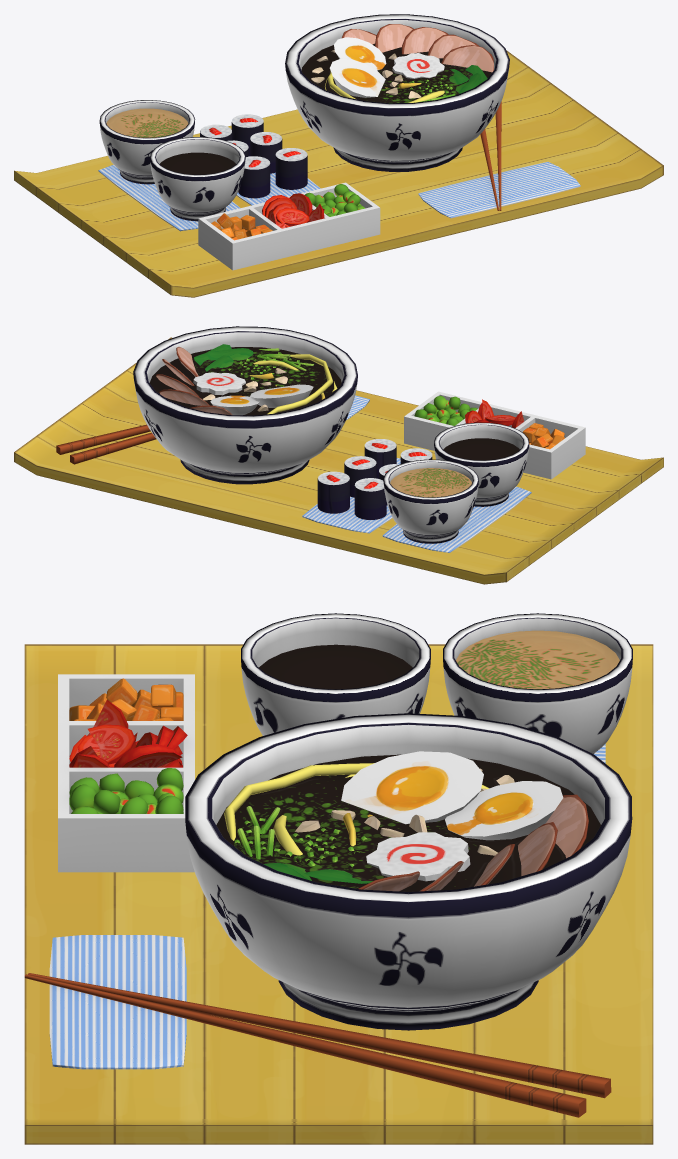
The model's file is udon_meal.fbx.
The picture shows the model from 3 angles, top to bottom: view 1: azimuth 30°, elevation 25°; view 2: azimuth 150°, elevation 25°; view 3: azimuth 270°, elevation 25°; orthographic projection. The views are drawn at different scales.
Parts seen in each view (by area): view 1: table, bowl, miniPlate, cup_01, cloth_00, sushi_00 (×4), cup_00, bowl_liquid, cup_00_liquid, cloth_02, egg_01, cup_01_liquid (+9 smaller); view 2: table, bowl, cup_00, miniPlate, bowl_liquid, cup_01, sushi_00 (×4), cloth_02, cup_00_liquid, cloth_01, cup_01_liquid, noodle (+7 smaller); view 3: table, bowl, cloth_00, miniPlate, bowl_liquid, cup_01, cup_00, egg_01, chopstick_01, chopstick_00, cup_00_liquid, cup_01_liquid (+7 smaller).
Boxes of the visible parts, bbox=[...] form: table: bbox=[14, 50, 663, 297]; bowl: bbox=[285, 14, 509, 171]; miniPlate: bbox=[198, 182, 380, 270]; cup_01: bbox=[150, 137, 245, 221]; cloth_00: bbox=[418, 162, 580, 218]; sushi_00 (×4): bbox=[231, 114, 307, 198]; cup_00: bbox=[99, 100, 195, 184]; bowl_liquid: bbox=[301, 43, 491, 103]; cup_00_liquid: bbox=[106, 108, 188, 137]; cloth_02: bbox=[98, 164, 240, 231]; egg_01: bbox=[329, 58, 385, 97]; cup_01_liquid: bbox=[160, 152, 235, 174]; table: bbox=[14, 337, 663, 584]; bowl: bbox=[133, 326, 357, 484]; cup_00: bbox=[383, 459, 478, 543]; miniPlate: bbox=[404, 391, 585, 479]; bowl_liquid: bbox=[149, 347, 341, 415]; cup_01: bbox=[434, 422, 529, 506]; sushi_00 (×4): bbox=[317, 439, 396, 519]; cloth_02: bbox=[382, 486, 531, 552]; cup_00_liquid: bbox=[390, 468, 471, 497]; cloth_01: bbox=[302, 458, 400, 533]; cup_01_liquid: bbox=[443, 438, 519, 460]; noodle: bbox=[249, 354, 337, 414]; table: bbox=[24, 644, 653, 1144]; bowl: bbox=[185, 713, 632, 1030]; cloth_00: bbox=[49, 935, 186, 1069]; miniPlate: bbox=[58, 674, 194, 872]; bowl_liquid: bbox=[216, 754, 600, 891]; cup_01: bbox=[241, 613, 430, 735]; cup_00: bbox=[443, 613, 632, 753]; egg_01: bbox=[341, 751, 483, 824]; chopstick_01: bbox=[24, 974, 586, 1117]; chopstick_00: bbox=[28, 973, 611, 1098]; cup_00_liquid: bbox=[456, 630, 619, 689]; cup_01_liquid: bbox=[259, 644, 412, 689].
Size of the model in its own units: 6.44 by 1.2 by 3.55.
